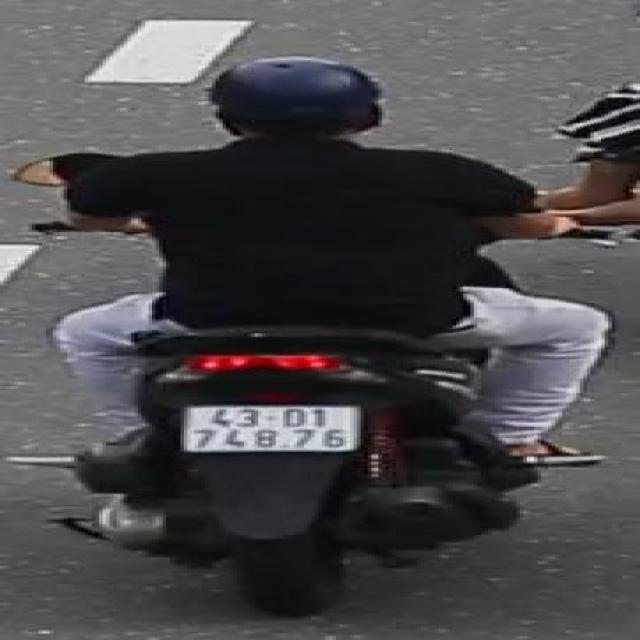LP: (175, 399, 370, 457)
helmet: (203, 51, 391, 150)
